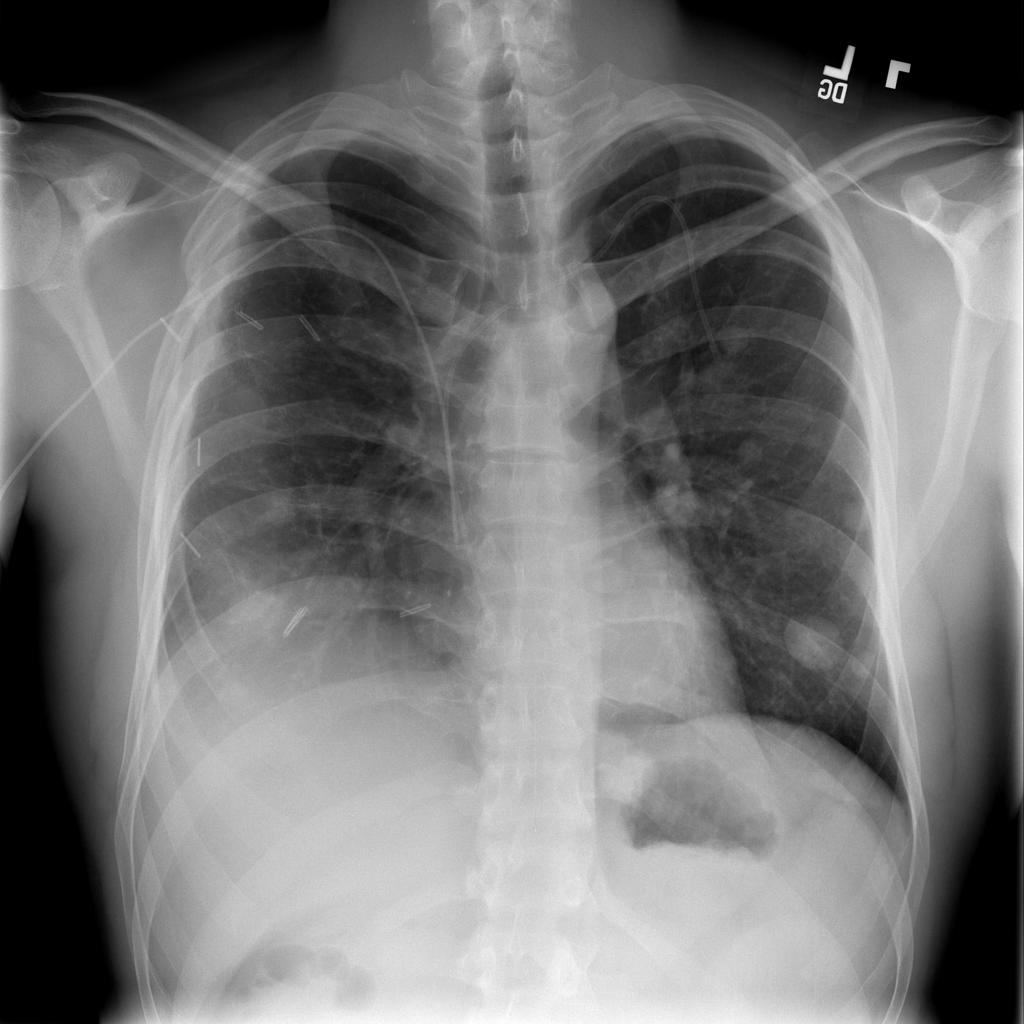nodule: (587, 731, 668, 812), (200, 368, 284, 440), (778, 601, 853, 678), (641, 466, 717, 533), (239, 473, 315, 539), (824, 478, 890, 549), (707, 318, 763, 367), (728, 427, 777, 481), (842, 636, 887, 691)
